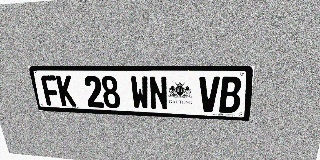2: (84, 76, 104, 108)
8: (100, 76, 121, 108)
B: (219, 77, 242, 113)
F: (40, 75, 61, 106)
K: (56, 75, 76, 107)
N: (148, 76, 168, 110)
V: (199, 76, 220, 112)
W: (130, 76, 150, 110)
